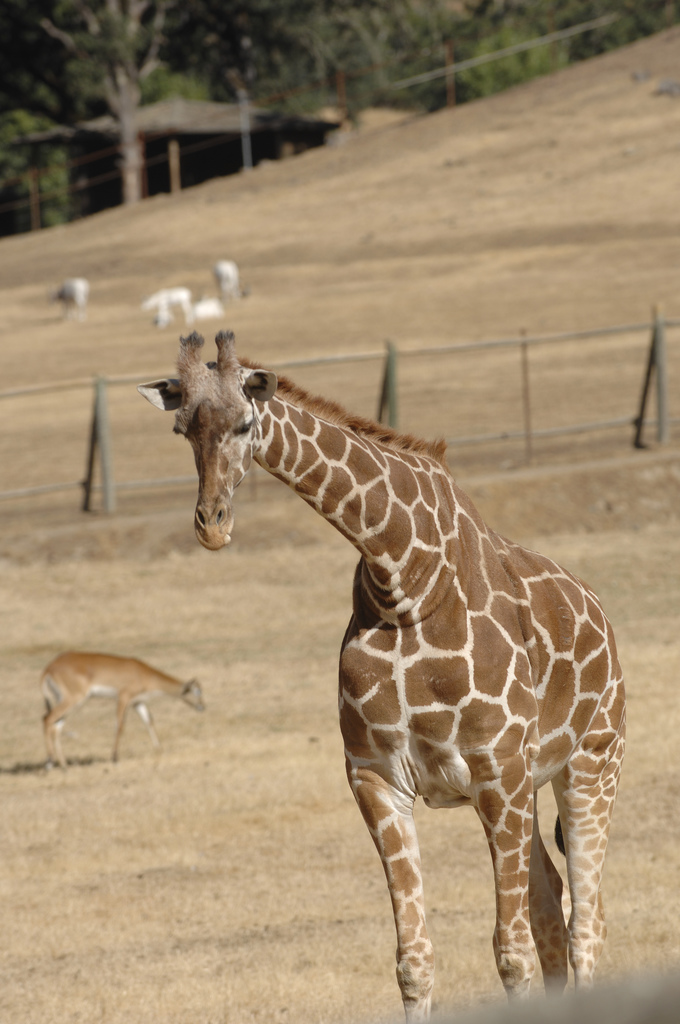giraffe: (137, 310, 654, 967)
